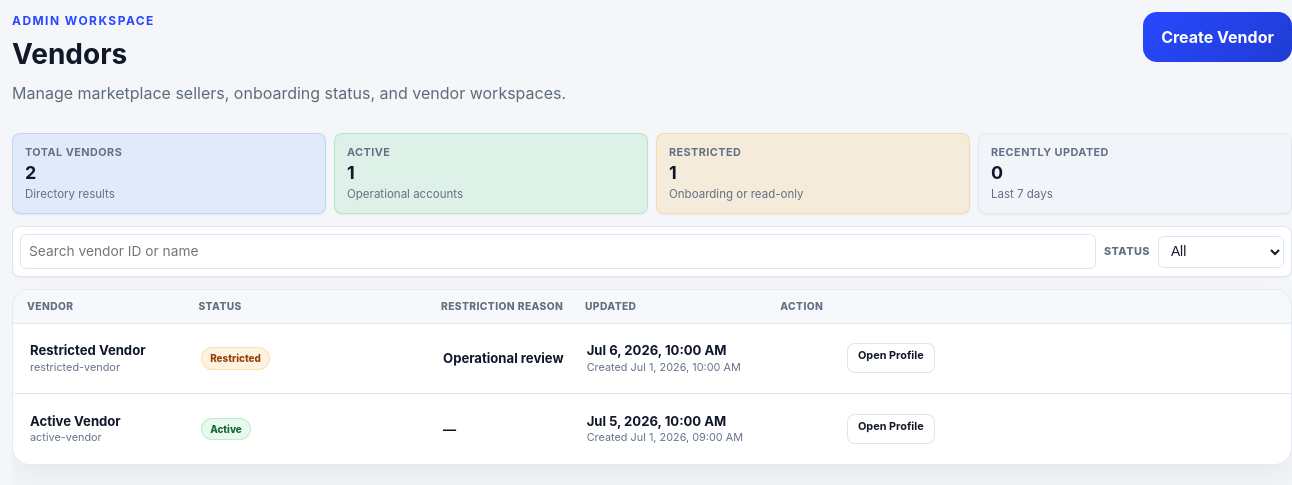
Test: AdminVendorDirectoryPage › filters vendors by restricted status
The width and height of the screenshot is (1292, 485).
Expected: the text "Active Vendor" is shown, x1=30 y1=413 x2=121 y2=429
Select "Restricted" in the dropdown named "Vendor status filter": (1221, 252) x1=1158 y1=236 x2=1284 y2=268
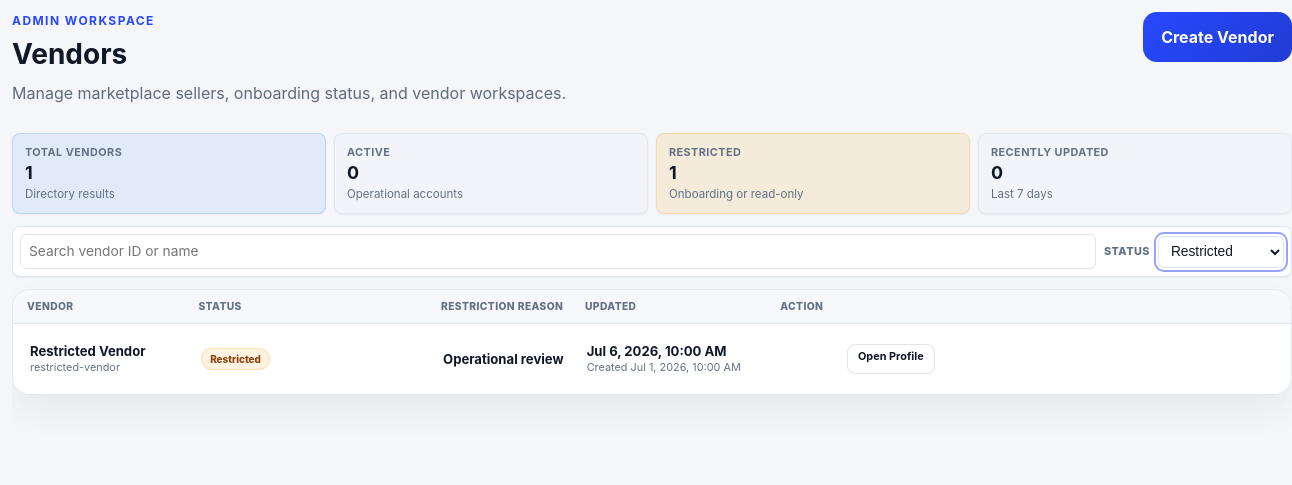
Expected: the text "Restricted Vendor" is shown, x1=30 y1=343 x2=146 y2=359
Result: the button "Active Vendor" is gone
